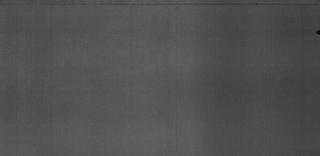punching hole: (316, 30, 320, 34)
welding line: (1, 3, 320, 10)
